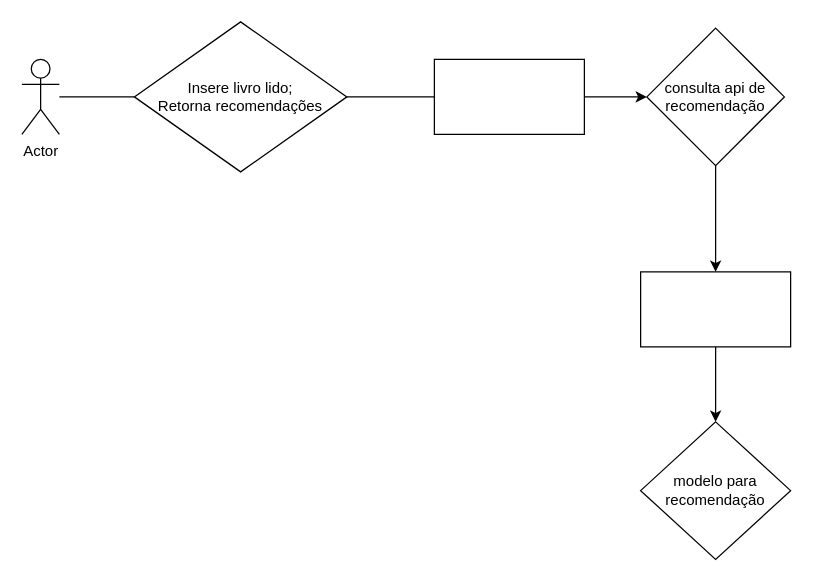
Image size: 813x581. Some labels were removed from this diagram. Here are the shapes that lost their labels. From the top down, the centre of each, then its label:
At point (508, 96): "Conteiner1 : React Frontend web".
At point (715, 309): "Conteiner0 : API de recomendação".
